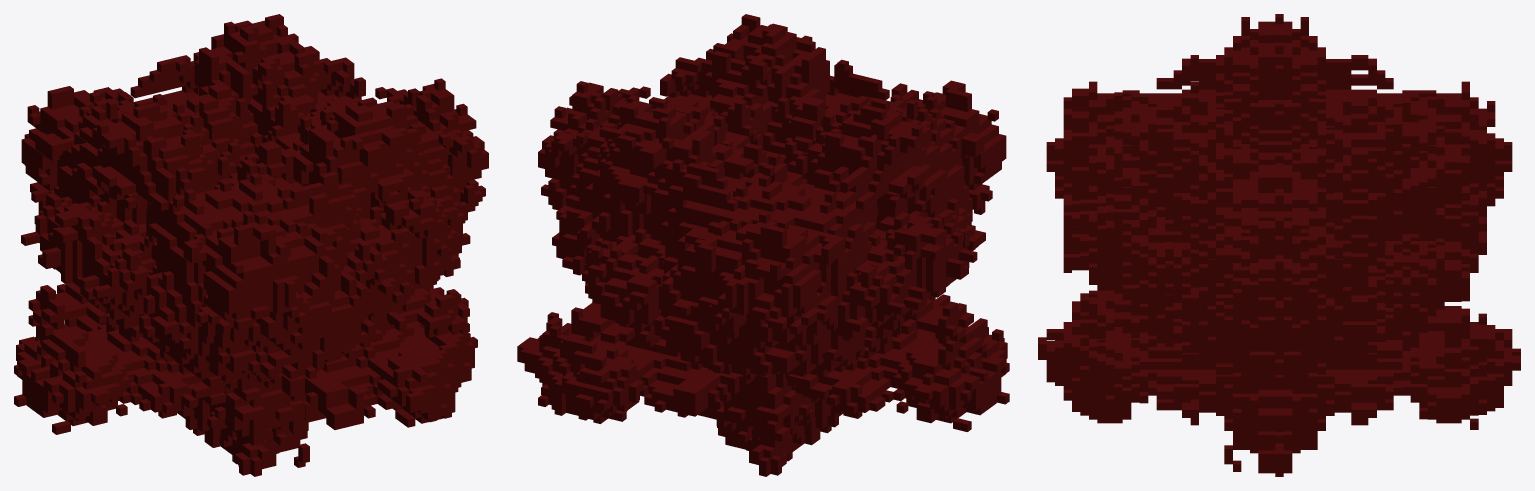
The model's file is bad-17.obj.
3 views of the same model, side by side, from view 1: azimuth 30°, elevation 25°; view 2: azimuth 150°, elevation 25°; view 3: azimuth 270°, elevation 25° (orthographic).
Bounding box in the file's own units: 5.9 × 4.9 × 5.7.
1 material, 1 textured.
